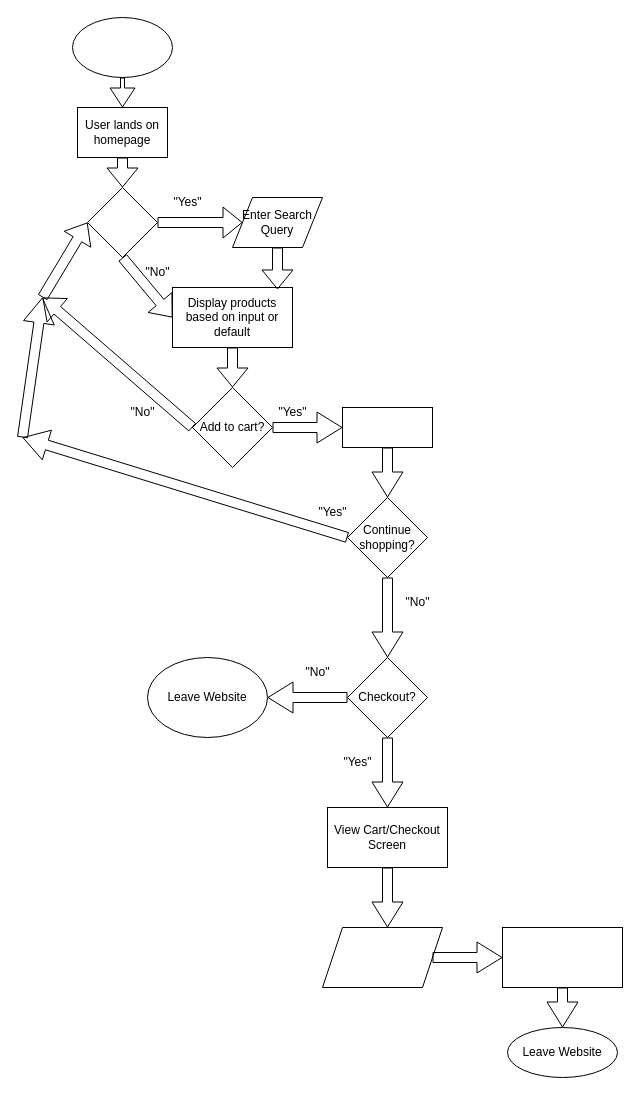
Image size: 640x1095. Some labels were removed from this diagram. Each missing label, with the centre of its shape:
Confirm Order and Send Email: pixel 562 957
Enter Website: pixel 122 47
Input payment information: pixel 382 957
Item added to cart: pixel 387 427
Search For Product?: pixel 122 222
